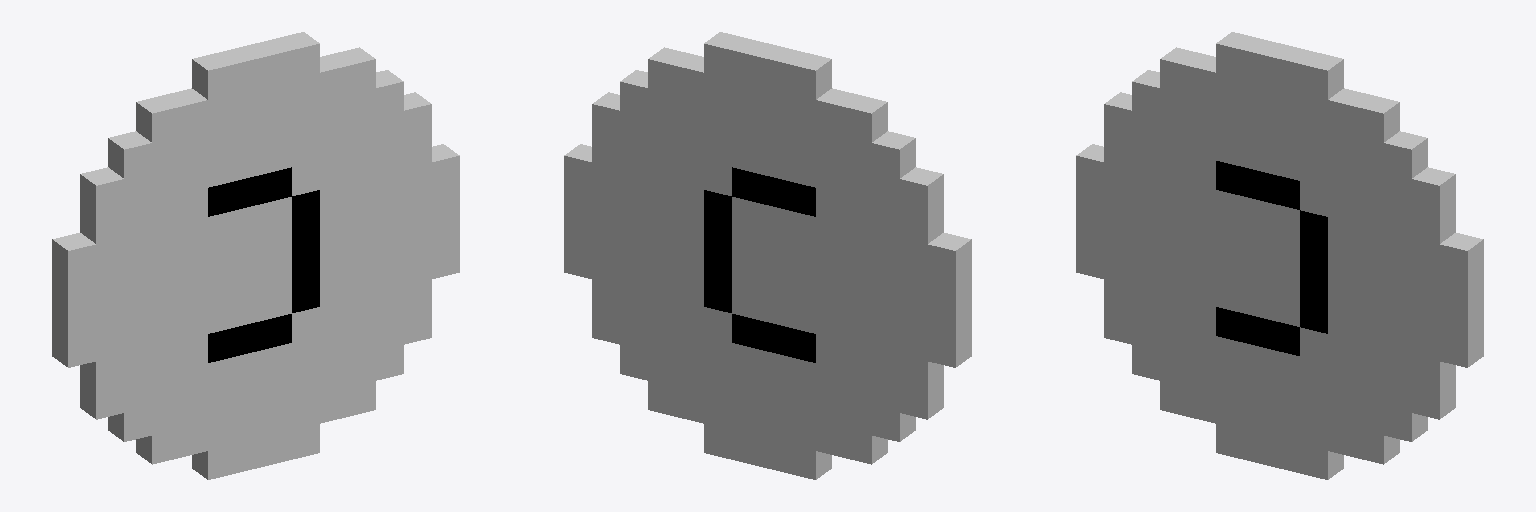
The picture shows the model from 3 angles: view 1: azimuth 30°, elevation 25°; view 2: azimuth 150°, elevation 25°; view 3: azimuth 330°, elevation 25°; orthographic projection.
Parts seen in each view (by area): view 1: Model; view 2: Model; view 3: Model.
Part boxes in pixels (x1,y1,x2,y2): Model: (52,32,459,479); Model: (564,32,971,479); Model: (1076,32,1483,479).
Bounding box in the file's own units: 32 × 32 × 2.29.
1 materials, 1 textured.